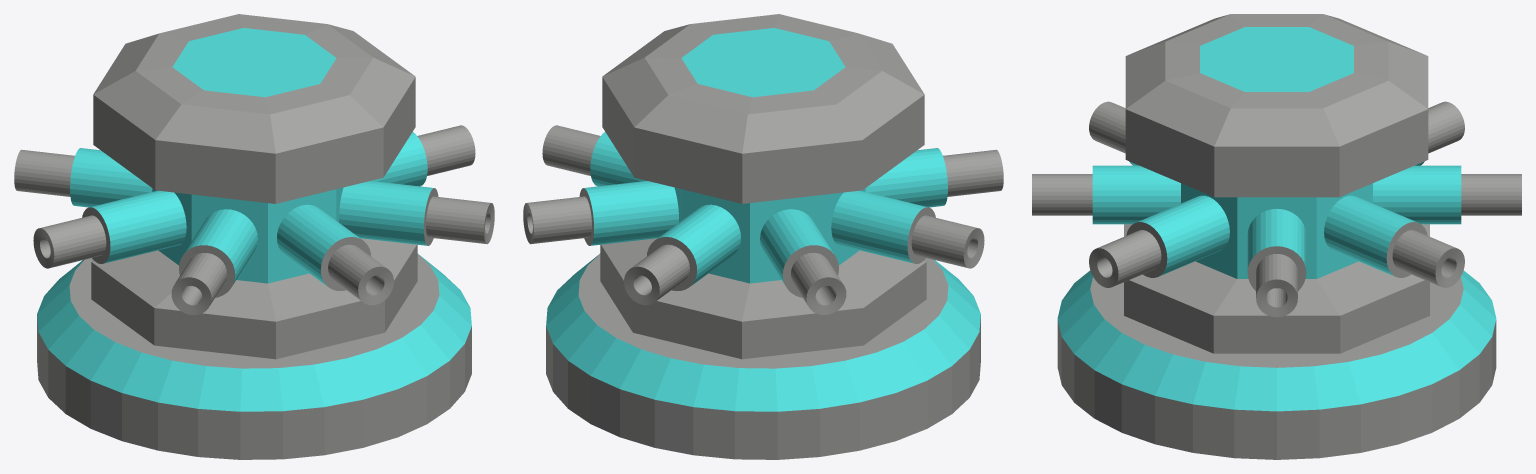
The model's file is spikey_ice.fbx.
The picture shows the model from 3 angles, left to right: view 1: azimuth 30°, elevation 25°; view 2: azimuth 150°, elevation 25°; view 3: azimuth 270°, elevation 25°; orthographic projection.
Parts seen in each view (by area): view 1: Circle; view 2: Circle; view 3: Circle.
Part boxes in pixels (x1,y1,x2,y2): Circle: (14,14,494,459); Circle: (523,14,1003,459); Circle: (1032,14,1521,459).
Bounding box in the file's own units: 223 × 155 × 223.
1 material, 1 textured.
